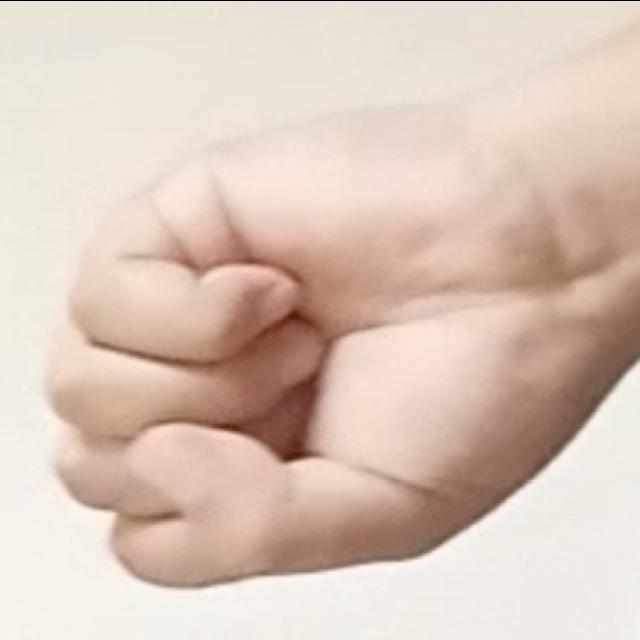S: (34, 74, 594, 602)
